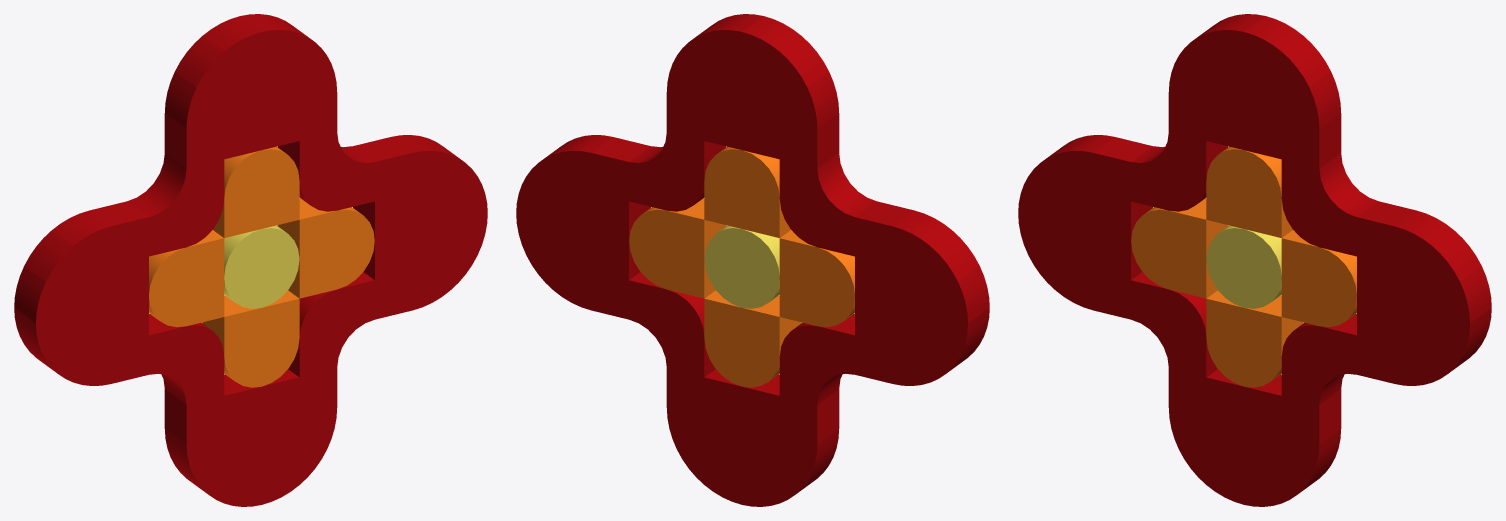
The model's file is Explosion.glb.
The picture shows the model from 3 angles, left to right: view 1: azimuth 30°, elevation 25°; view 2: azimuth 150°, elevation 25°; view 3: azimuth 330°, elevation 25°; orthographic projection.
Parts seen in each view (by area): view 1: generated(Clone); view 2: generated(Clone); view 3: generated(Clone).
Boxes of the visible parts, x1,y1,x2,y2 form: generated(Clone): (14, 14, 487, 506); generated(Clone): (516, 14, 989, 506); generated(Clone): (1018, 14, 1491, 506).
Size of the model in its own units: 12 by 12 by 1.
Materials: 1 (1 with a texture image).
